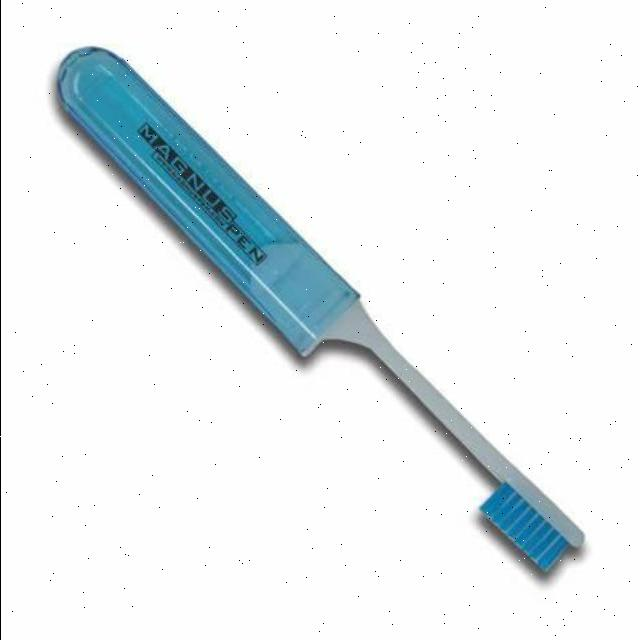toothbrush: (70, 45, 588, 598)
